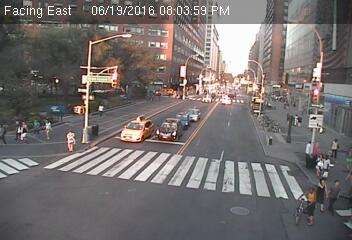neg: (176, 110, 194, 134), (87, 128, 104, 150), (55, 100, 70, 120), (220, 88, 234, 107), (167, 115, 181, 132), (250, 100, 263, 117), (71, 102, 83, 119), (232, 82, 244, 99), (42, 100, 53, 115), (266, 136, 276, 149), (203, 87, 212, 100), (130, 98, 138, 108)
pos: (323, 179, 351, 217), (311, 148, 336, 181), (13, 120, 34, 147), (39, 117, 57, 142), (60, 128, 78, 151), (327, 137, 344, 159), (290, 111, 305, 131), (29, 118, 42, 135), (95, 102, 107, 119)
